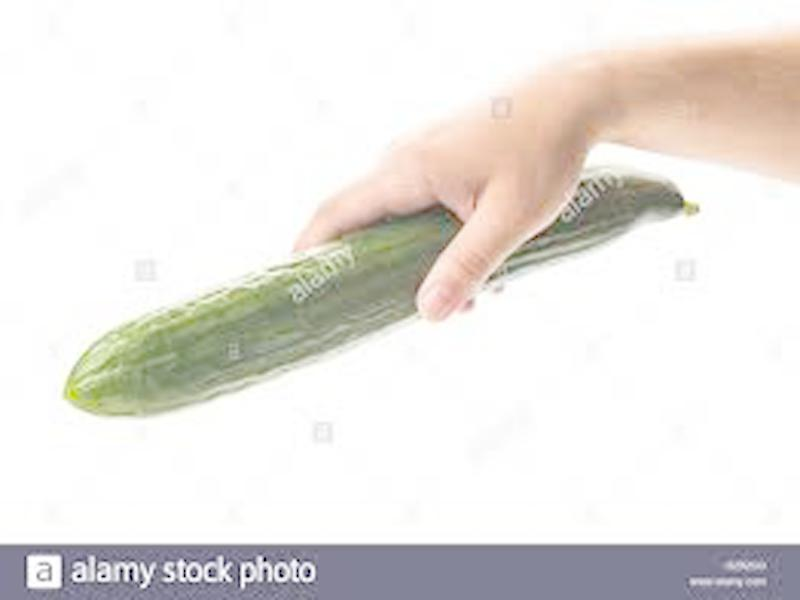Cucumber: (61, 166, 702, 419)
